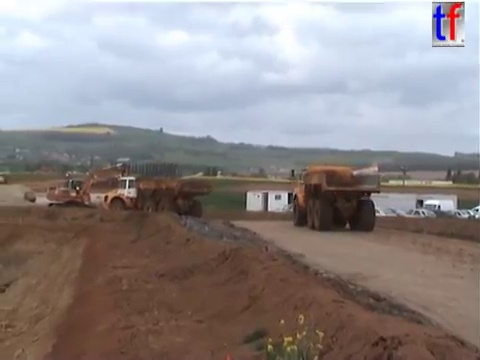excavator: (43, 159, 133, 217)
truck: (288, 163, 383, 233), (100, 174, 214, 219)
